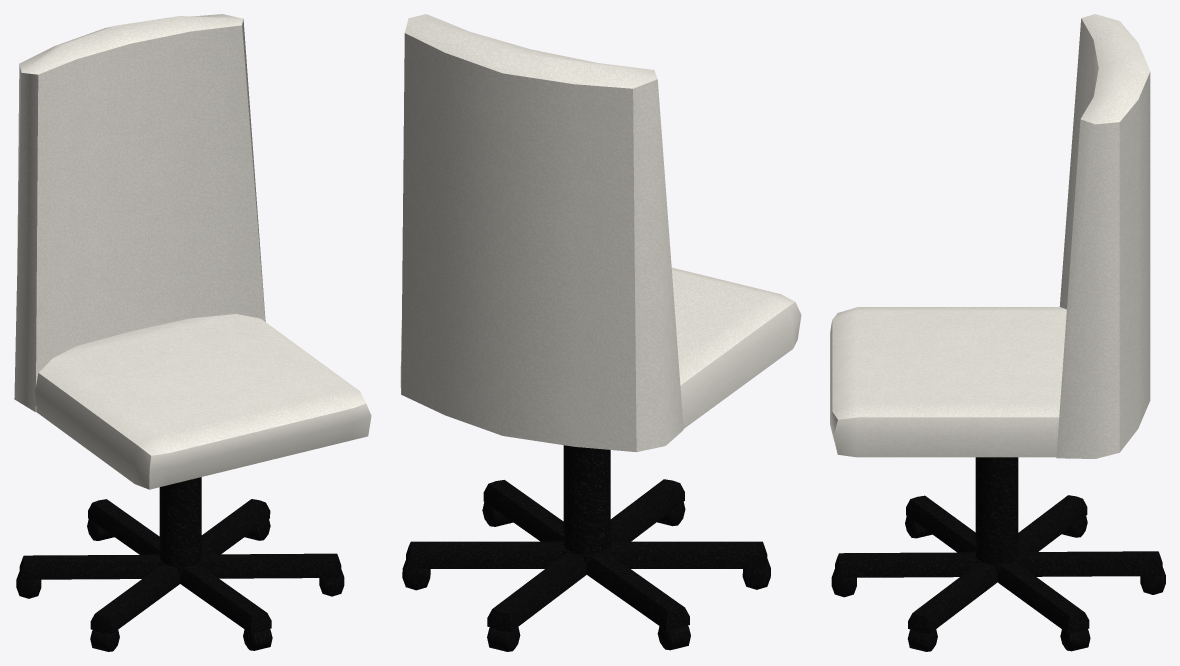
The model's file is Chair.fbx.
The picture shows the model from 3 angles, left to right: view 1: azimuth 30°, elevation 25°; view 2: azimuth 150°, elevation 25°; view 3: azimuth 270°, elevation 25°; orthographic projection. The views are drawn at different scales.
Visible parts, largest first — view 1: pCube5; view 2: pCube5; view 3: pCube5.
Boxes of the visible parts, bbox=[...] form: pCube5: bbox=[14, 14, 371, 651]; pCube5: bbox=[400, 14, 801, 651]; pCube5: bbox=[830, 14, 1165, 651].
Bounding box in the file's own units: 0.5594 × 1.09 × 0.6226.
